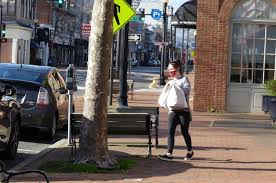mask: (162, 58, 184, 79)
